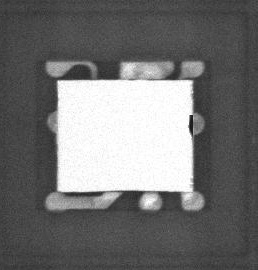DIE_BROKEN: (187, 112, 194, 139)
